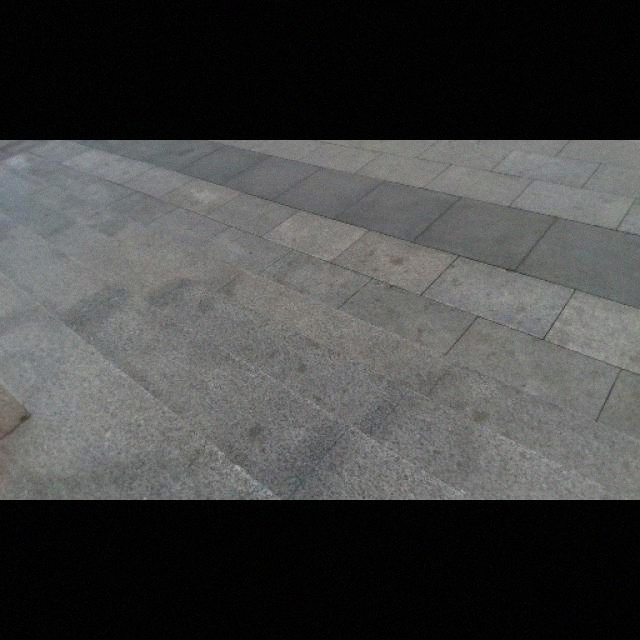stair: (65, 259, 511, 480)
